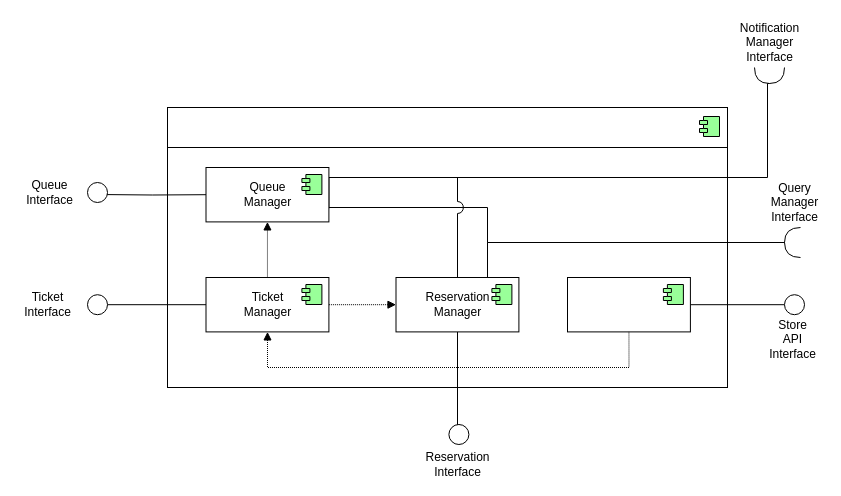
This 841x496 diagram has some shape labels left out. The shapes that lost their labels are listed below. From the top down, each one's centre as x and y in pixels, then its label:
At [447,127]: "<<component>> Store Handler".
At [628,304]: "Store API Adaptor".
